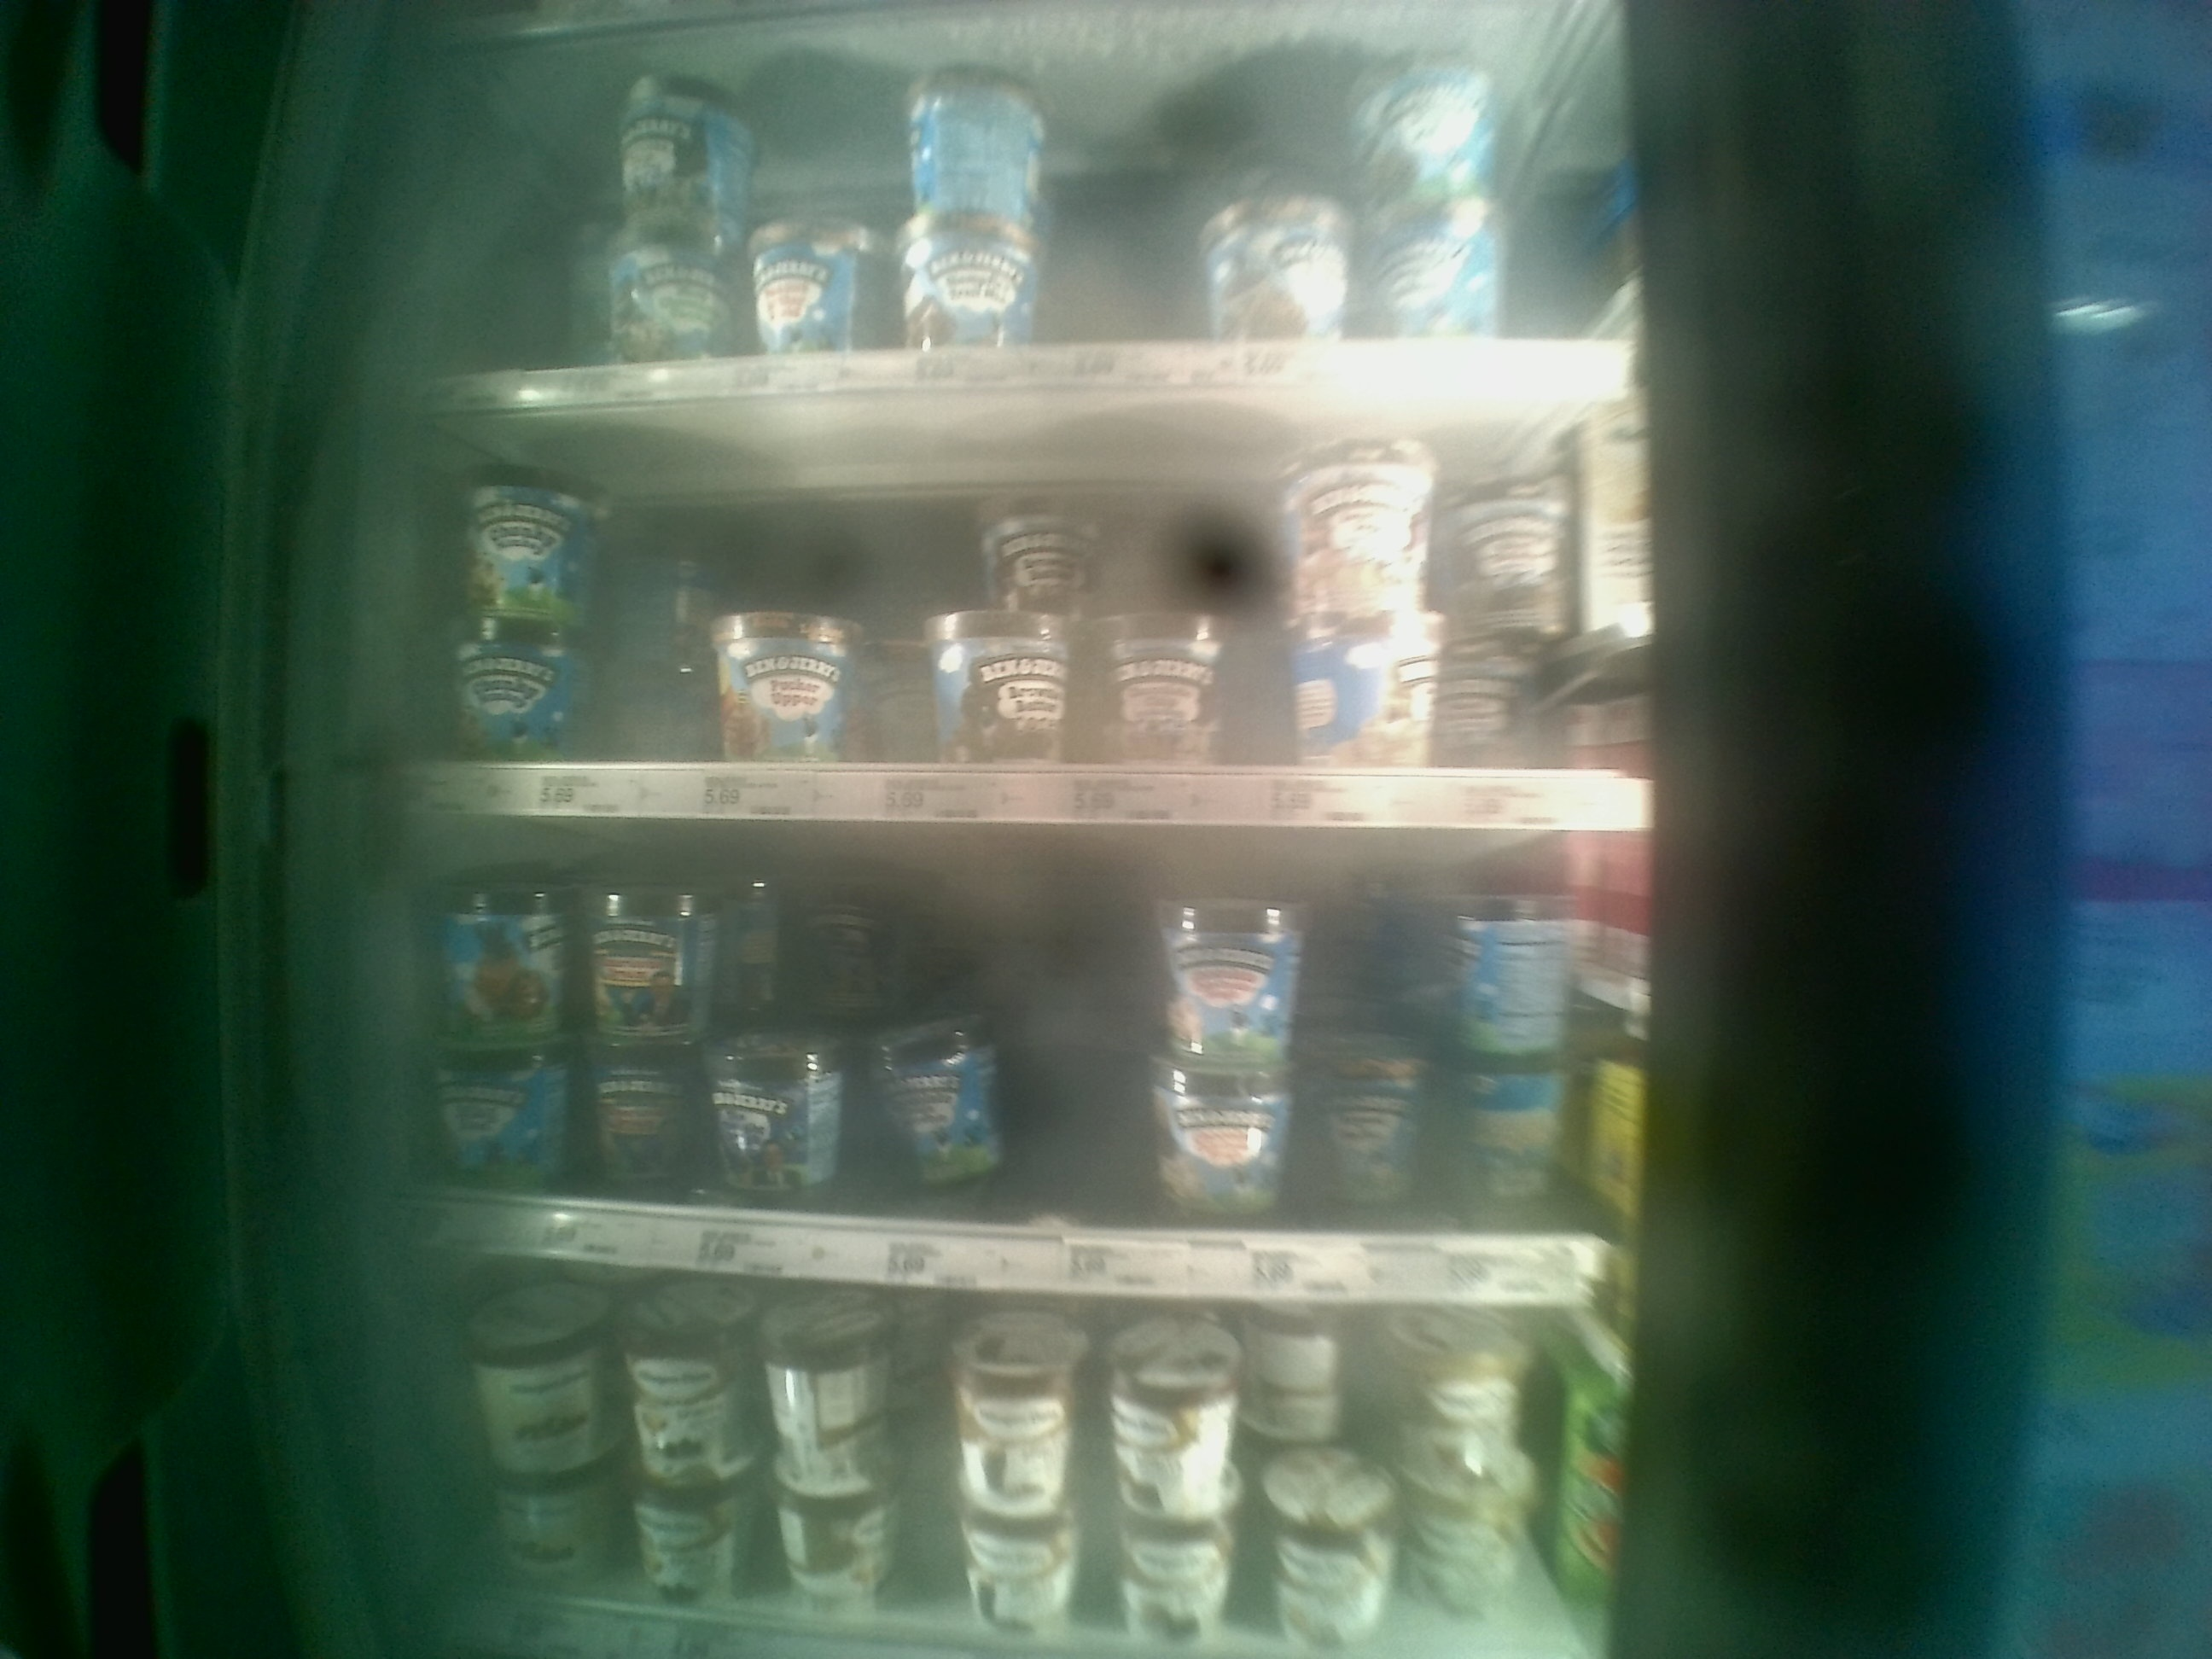shelf: (388, 819, 1634, 1300), (387, 403, 1658, 823)
